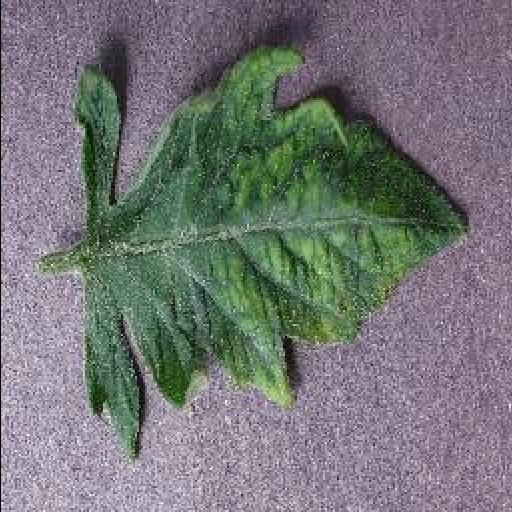Mosaic Virus: (68, 43, 478, 465)
